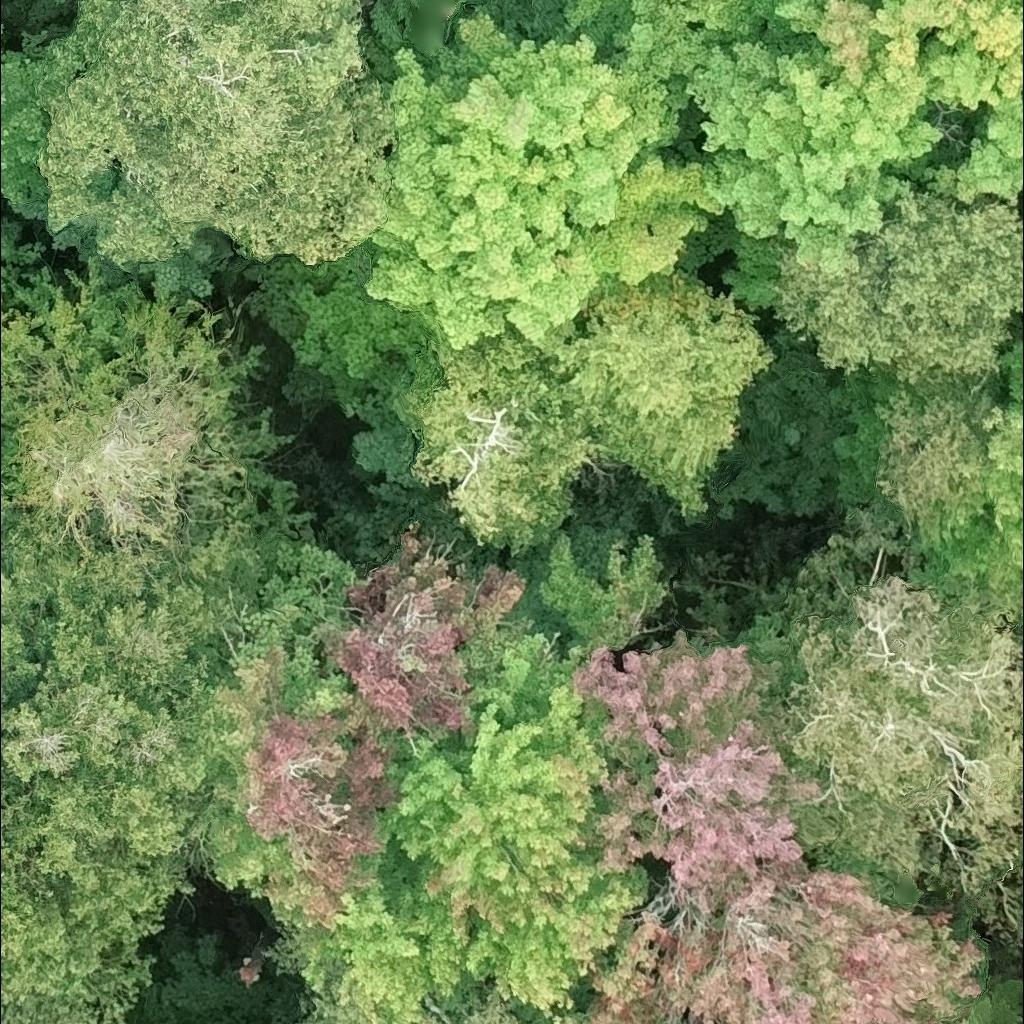crown: (237, 0, 730, 404), (289, 601, 648, 1023), (0, 483, 278, 1023), (185, 521, 537, 931), (567, 0, 950, 311), (779, 532, 1023, 941), (35, 0, 393, 267), (0, 252, 302, 556), (573, 626, 823, 909), (579, 856, 990, 1023), (538, 269, 779, 517), (768, 187, 1023, 387), (393, 327, 595, 556), (750, 0, 1023, 131), (912, 336, 1023, 591), (533, 522, 670, 664), (872, 374, 984, 533), (925, 94, 1023, 207), (0, 19, 54, 221), (0, 205, 48, 293), (412, 986, 519, 1023), (941, 980, 1023, 1023), (292, 994, 376, 1023), (1017, 355, 1023, 377), (1015, 1021, 1023, 1023)
